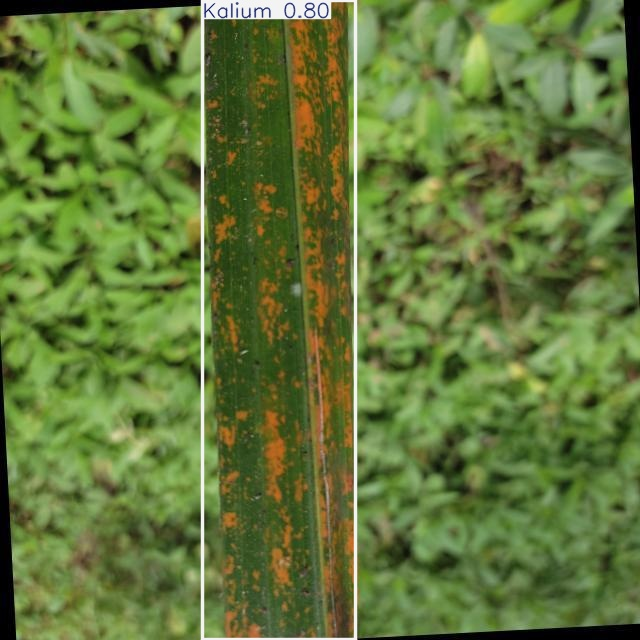Kalium: (202, 1, 356, 640)
